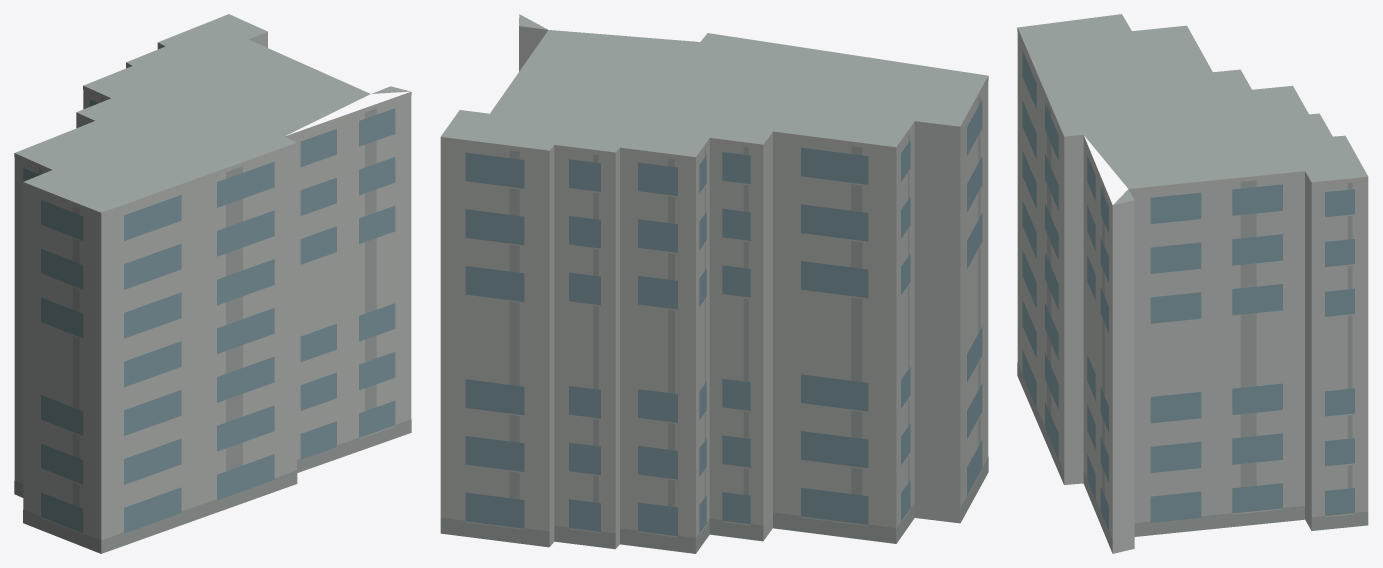
Rendered from survey-upis-32645121.glb.
3 views of the same model, side by side, from view 1: azimuth 30°, elevation 25°; view 2: azimuth 150°, elevation 25°; view 3: azimuth 270°, elevation 25° (orthographic). The views are drawn at different scales.
Visible parts, largest first — view 1: survey-upis-32645121.tmp; view 2: survey-upis-32645121.tmp; view 3: survey-upis-32645121.tmp.
Boxes of the visible parts, bbox=[...] form: survey-upis-32645121.tmp: bbox=[14, 14, 411, 553]; survey-upis-32645121.tmp: bbox=[440, 14, 988, 553]; survey-upis-32645121.tmp: bbox=[1017, 14, 1368, 553].
Bounding box in the file's own units: 23.61 × 20.05 × 18.3.
